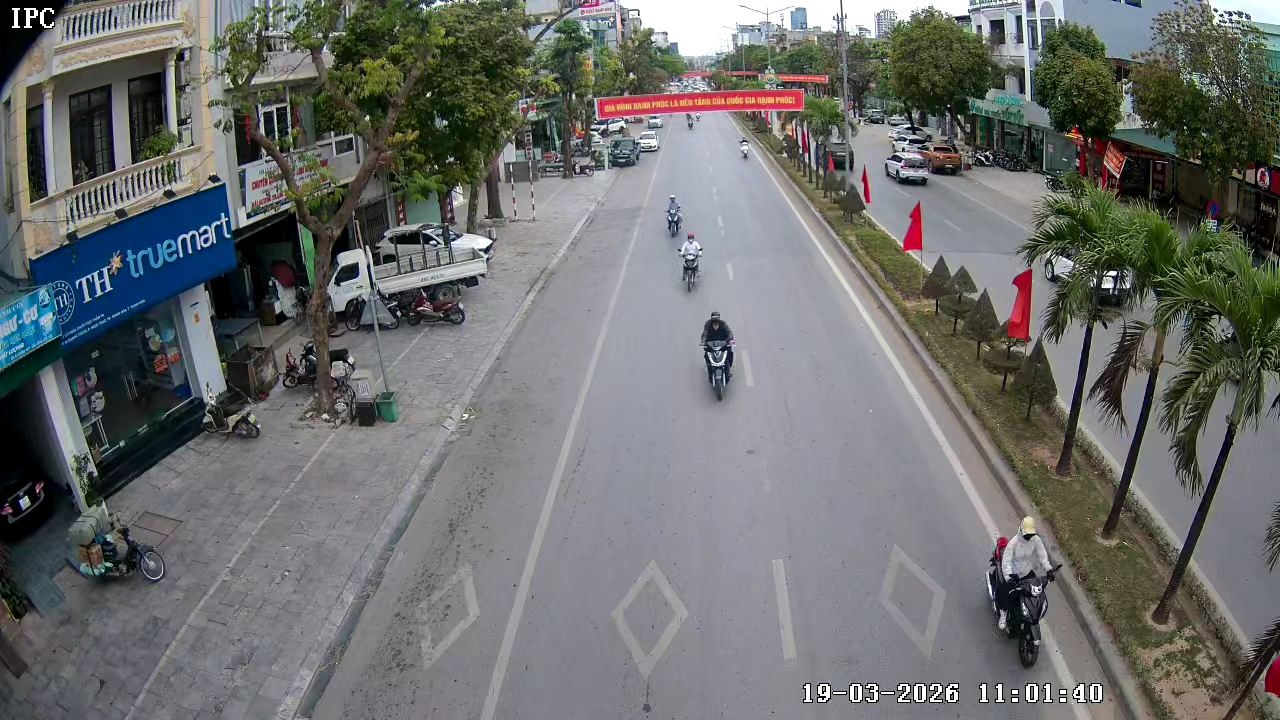car: (884, 147, 932, 186)
motorbike: (984, 515, 1063, 668), (68, 500, 167, 584), (698, 309, 738, 402), (676, 230, 704, 293), (663, 193, 685, 239), (737, 136, 753, 159)
truck: (605, 131, 644, 168)
